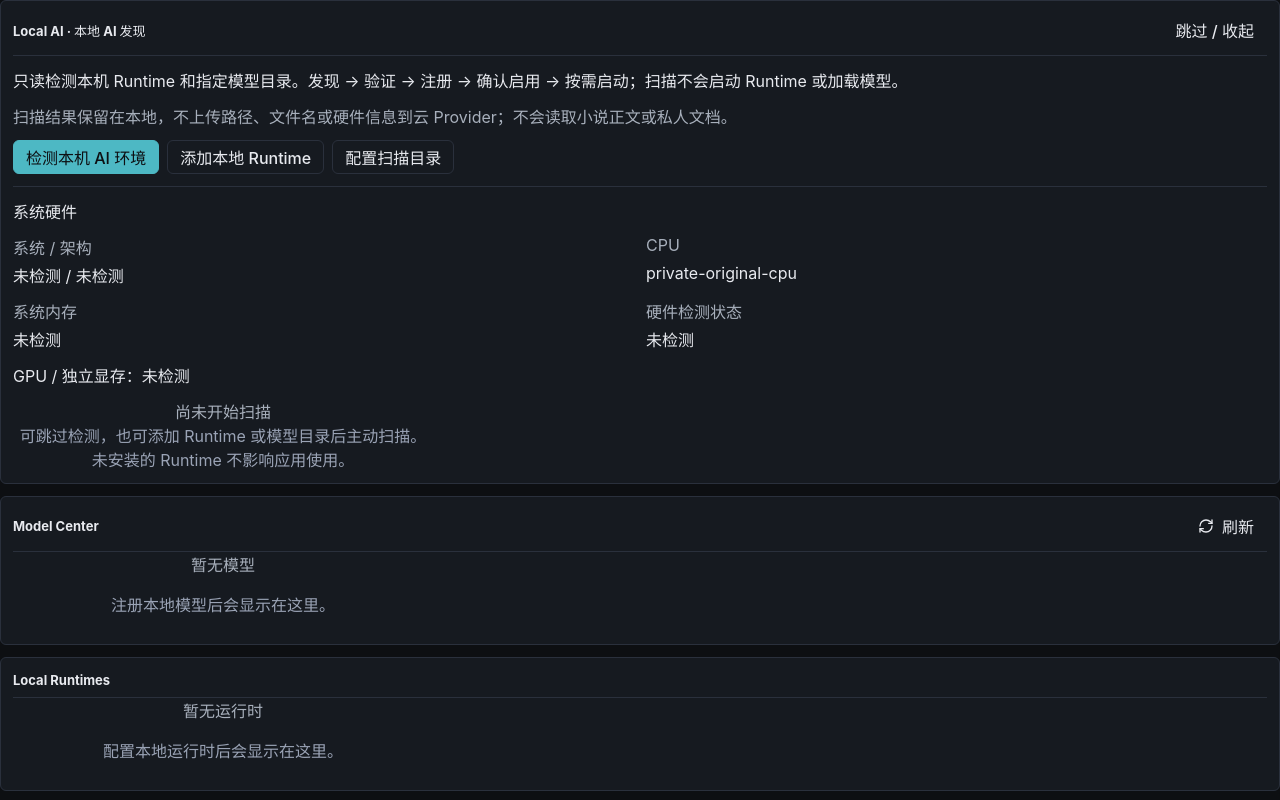
default-off Model Center keeps existing shared controls and scoped discovery ownership › purges discovery when shared health revokes mutation without changing shared registry access
The width and height of the screenshot is (1280, 800).
Expected: the text "private-original-cpu" is shown, 646,263 -> 797,283
Expected: the text "暂无模型" is shown, 191,555 -> 255,575
Click the button "刷新": (1226,526) 1185,509 -> 1267,543
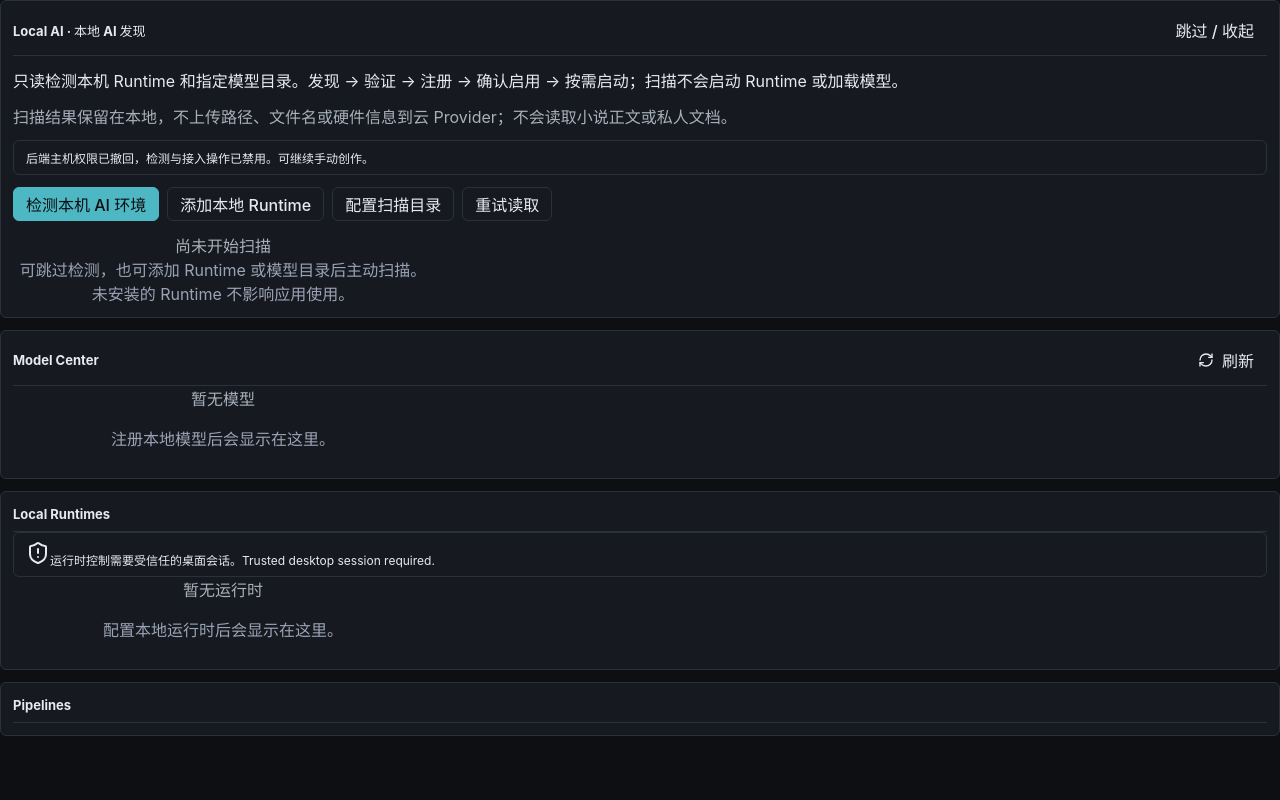
Expected: the text "暂无模型" is shown, 191,389 -> 255,409
Now the text "private-original-cpu" is gone
Now the button "检测本机 AI 环境" is disabled, box 13,187 -> 159,221
